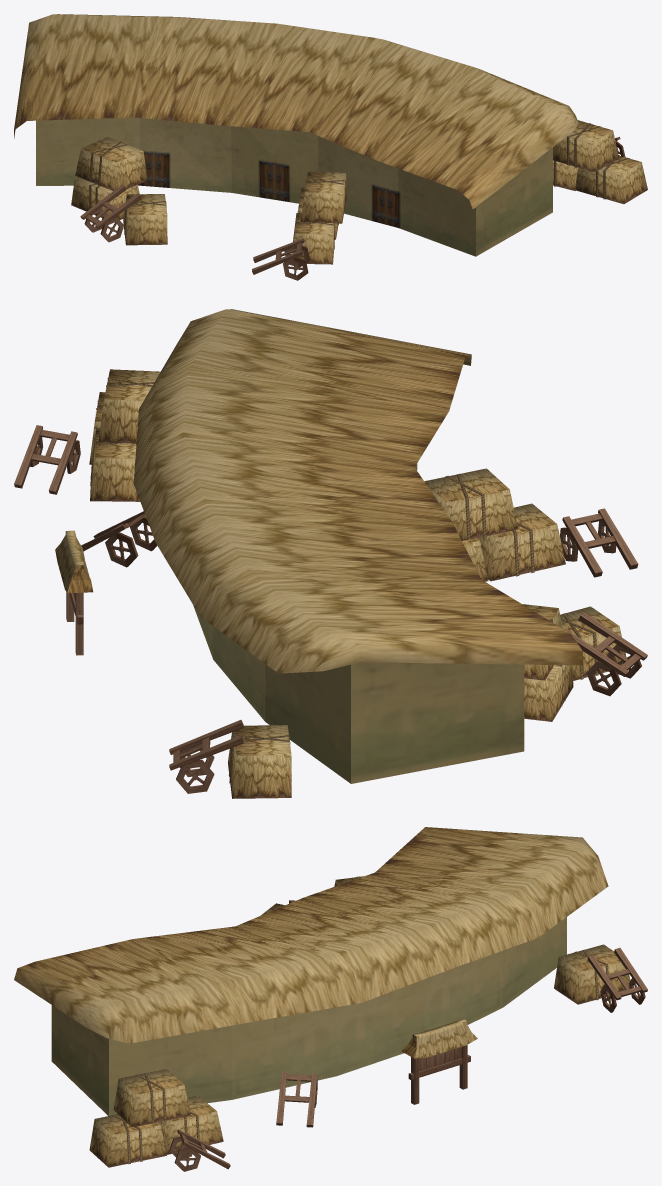
File: Area_13_57.fbx
3 views of the same model, one above another, from view 1: azimuth 30°, elevation 25°; view 2: azimuth 150°, elevation 25°; view 3: azimuth 270°, elevation 25° (orthographic). The views are drawn at different scales.
Visible parts, largest first — view 1: Area_13_57; view 2: Area_13_57; view 3: Area_13_57.
Boxes of the visible parts, bbox=[...] form: Area_13_57: bbox=[14, 14, 647, 280]; Area_13_57: bbox=[14, 309, 647, 798]; Area_13_57: bbox=[14, 827, 647, 1171].
Size of the model in its own units: 2389 by 545 by 2427.
